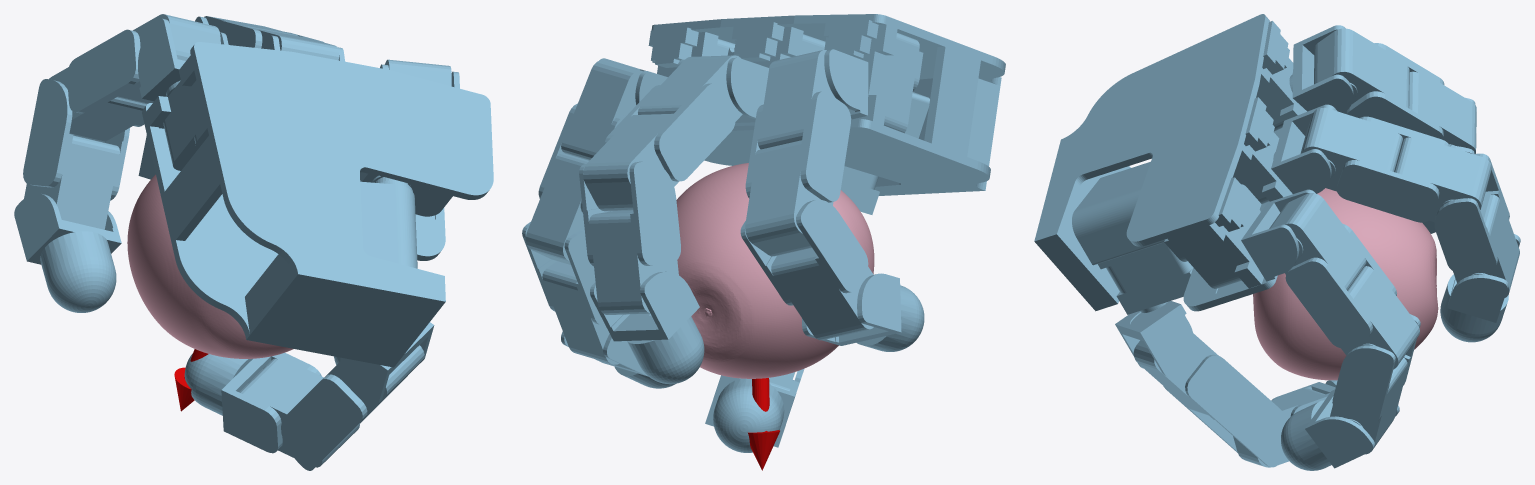
3 views of the same model, side by side, from view 1: azimuth 30°, elevation 25°; view 2: azimuth 150°, elevation 25°; view 3: azimuth 270°, elevation 25° (orthographic). The views are drawn at different scales.
Visible parts, largest first — view 1: world, apple.stl; view 2: world, apple.stl; view 3: world, apple.stl.
Part boxes in pixels (left/top/right/bottom): world: left=14, top=14, right=493, bottom=470; apple.stl: left=127, top=174, right=293, bottom=358; world: left=522, top=14, right=1005, bottom=470; apple.stl: left=676, top=163, right=874, bottom=378; world: left=1034, top=14, right=1520, bottom=470; apple.stl: left=1253, top=188, right=1438, bottom=380.
Size of the model in its own units: 0.1539 by 0.1683 by 0.1857.
